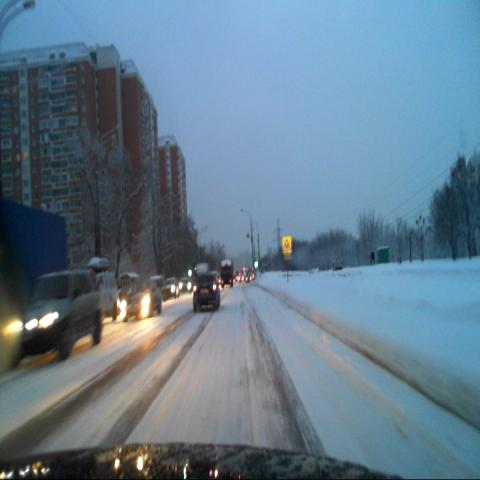1_23: (280, 235, 293, 256)
